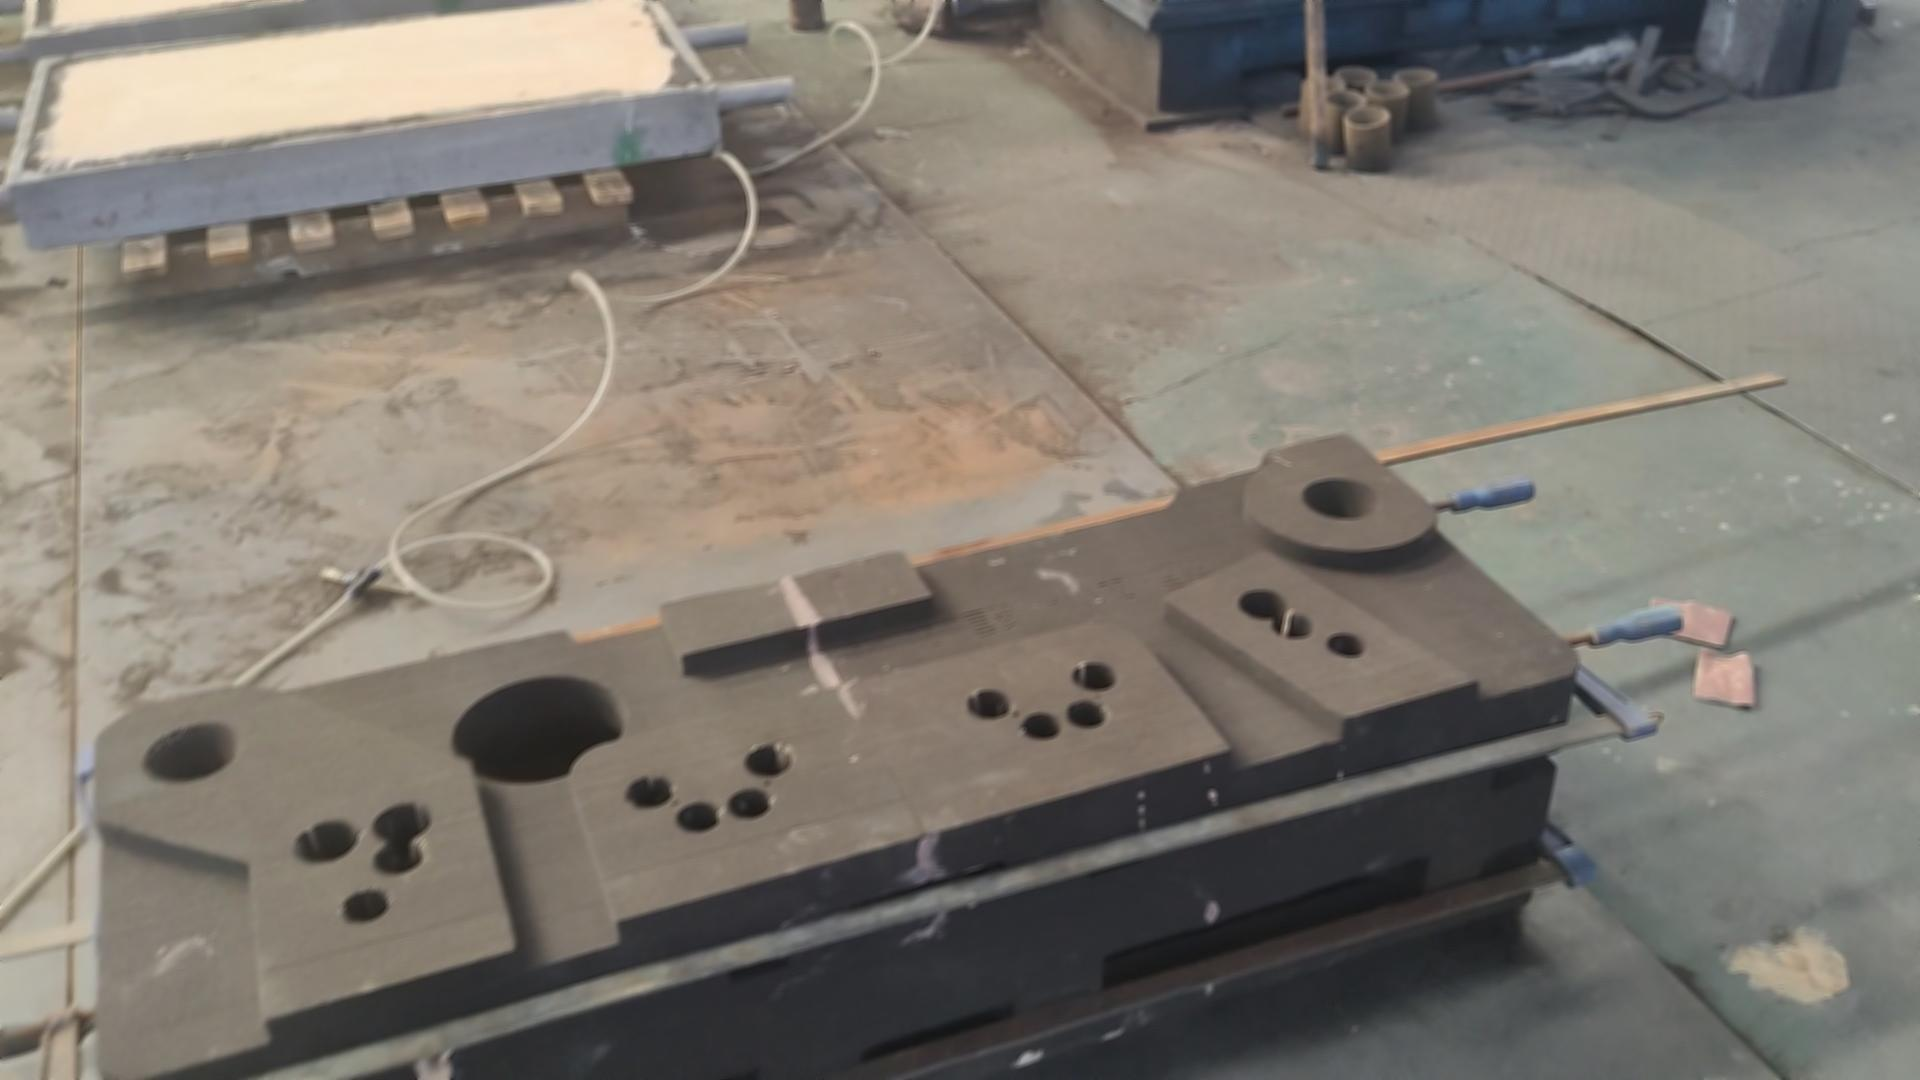pouring hole: (138, 720, 235, 783), (1300, 476, 1377, 520), (1342, 105, 1390, 127), (1333, 65, 1377, 83), (1366, 80, 1408, 98), (1302, 75, 1342, 92), (1323, 91, 1364, 107), (1395, 67, 1437, 82)
